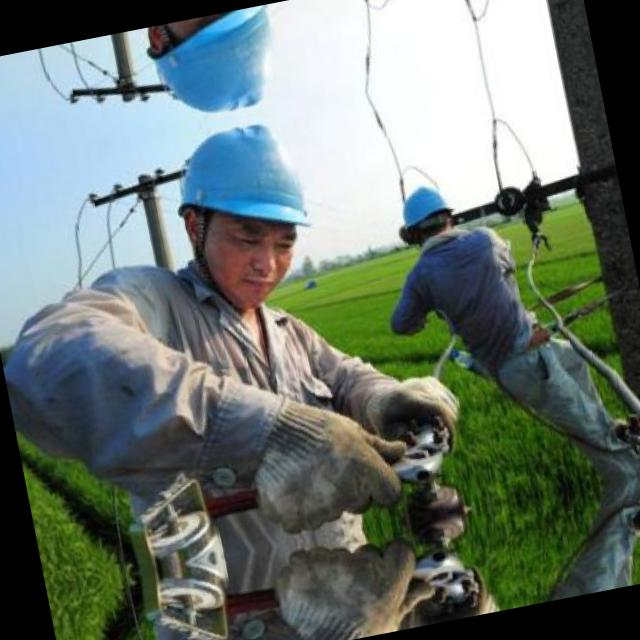helmet: (153, 112, 343, 321), (130, 0, 306, 129), (390, 174, 462, 252)
